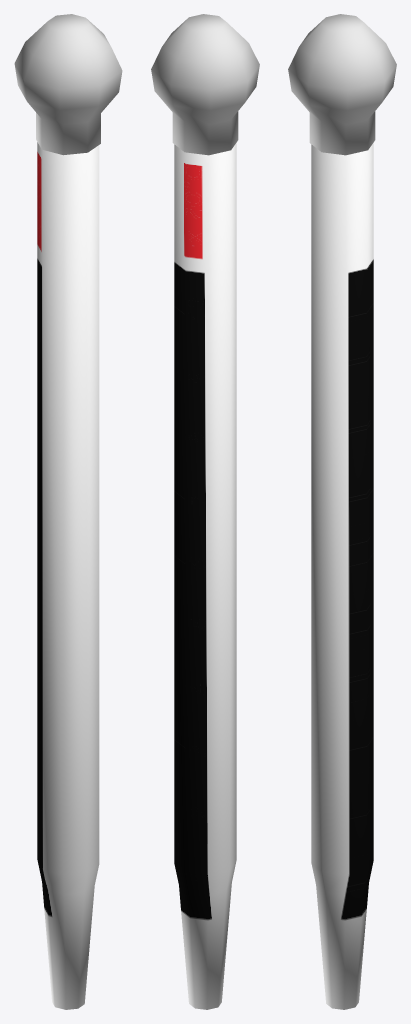
The model's file is Pipette.fbx.
The picture shows the model from 3 angles, left to right: view 1: azimuth 90°, elevation 25°; view 2: azimuth 150°, elevation 25°; view 3: azimuth 330°, elevation 25°; orthographic projection.
Parts seen in each view (by area): view 1: 10 ml Pipette; view 2: 10 ml Pipette; view 3: 10 ml Pipette.
Boxes of the visible parts, x1,y1,x2,y2 form: 10 ml Pipette: [14, 14, 122, 1009]; 10 ml Pipette: [151, 14, 259, 1009]; 10 ml Pipette: [288, 14, 396, 1009].
Bounding box in the file's own units: 1.38 × 13.82 × 1.38.
